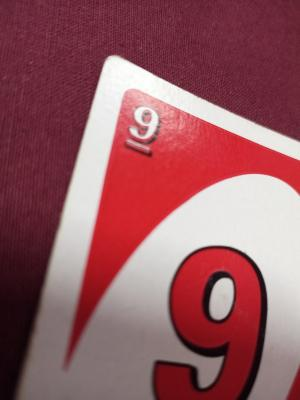num_9: (138, 235, 279, 400), (121, 99, 165, 162)
